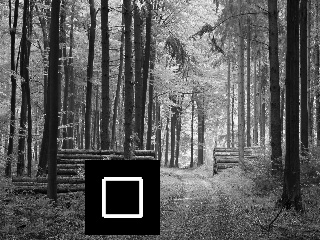square: (85, 160, 160, 236)
